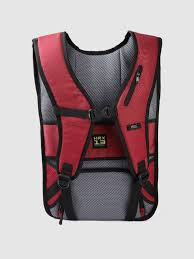backpack: (31, 30, 162, 224)
